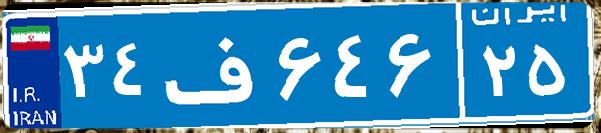2: (475, 38, 525, 113)
3: (57, 26, 110, 107)
4: (330, 28, 385, 110), (110, 28, 158, 105)
5: (525, 38, 570, 115)
6: (385, 28, 445, 110), (273, 28, 330, 110)
ف: (158, 15, 273, 115)
